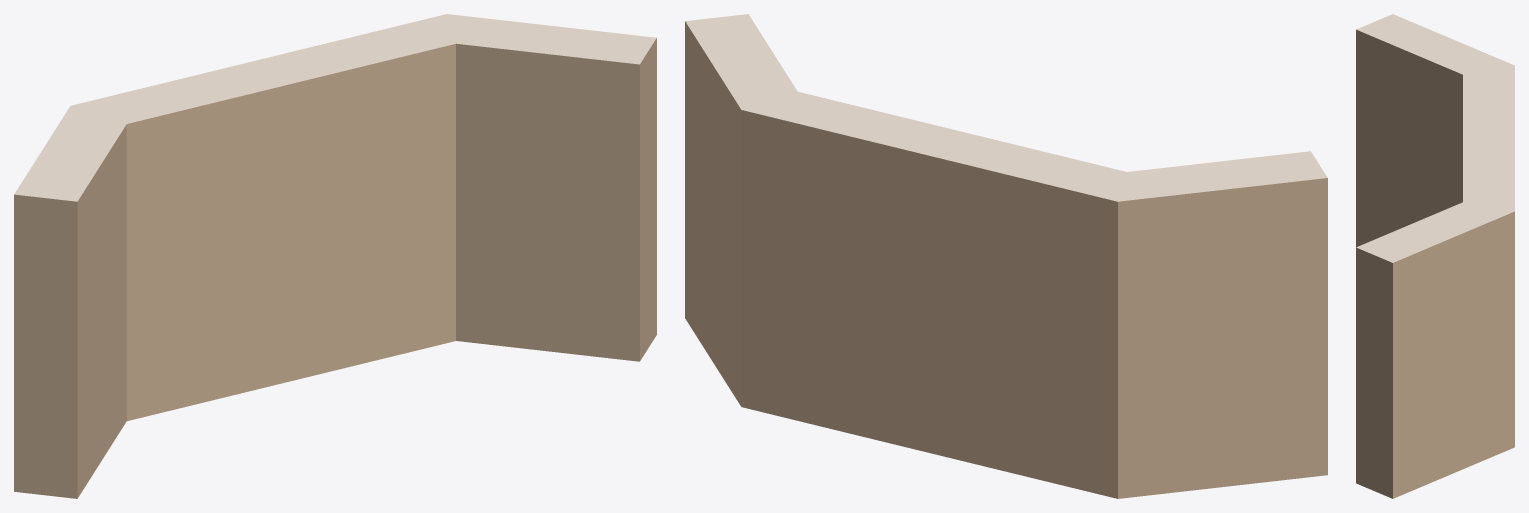
File: Tower_Wall_Normal_Plain.fbx
3 views of the same model, side by side, from view 1: azimuth 30°, elevation 25°; view 2: azimuth 150°, elevation 25°; view 3: azimuth 270°, elevation 25° (orthographic). The views are drawn at different scales.
Parts seen in each view (by area): view 1: object1, Sandstone_Floor; view 2: object1, Sandstone_Floor; view 3: object1, Sandstone_Floor.
Boxes of the visible parts, <box> form: object1: <box>14,38,656,498</box>; Sandstone_Floor: <box>14,14,656,201</box>; object1: <box>685,21,1327,498</box>; Sandstone_Floor: <box>685,14,1327,201</box>; object1: <box>1356,29,1514,498</box>; Sandstone_Floor: <box>1356,14,1514,262</box>.
Size of the model in its own units: 2.26 by 1 by 0.6101.
